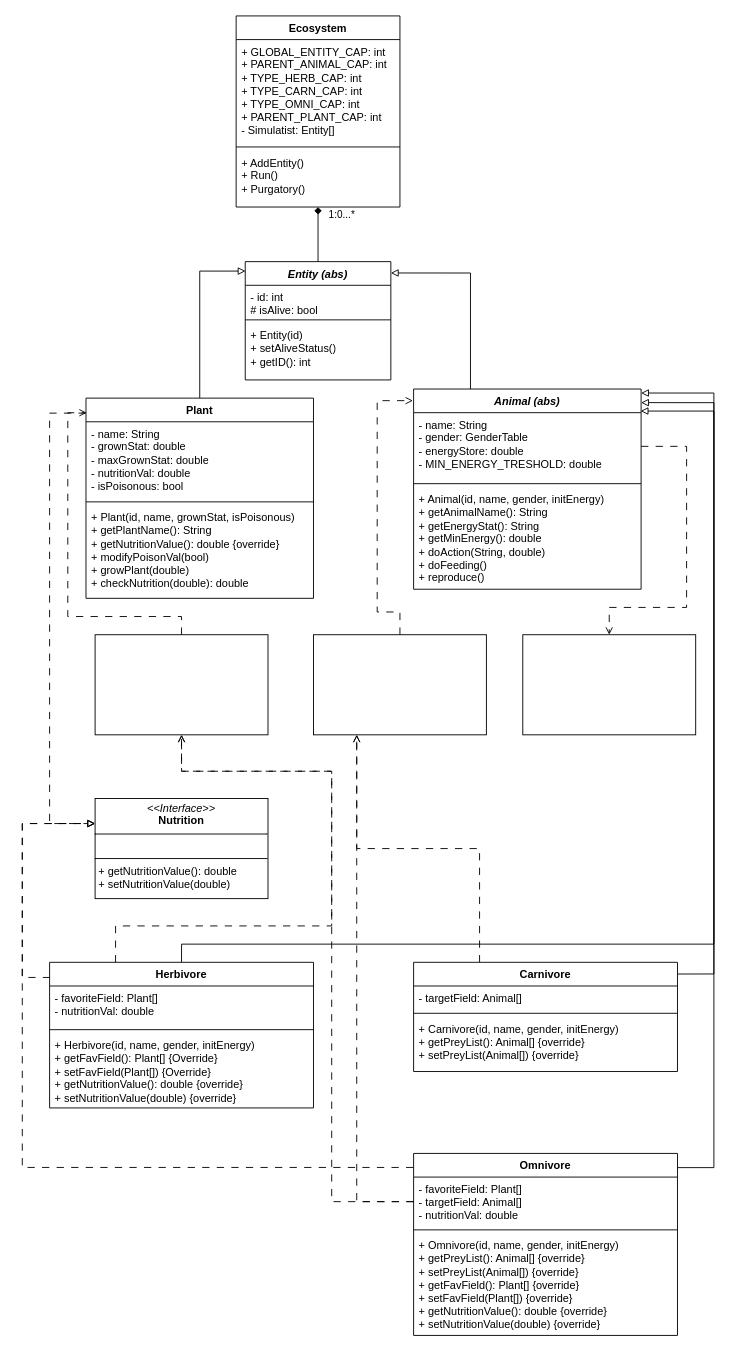
Image size: 737x1354. Some labels were removed from this diagram. Here are the shapes that lost their labels. From the top down, the centre of each, then its label:
(x=181, y=684): <<Interface>> PlantFeeding + getFavField(): Plant[] + setFavField(Plant[])
(x=399, y=684): <<Interface>> AnimalFeeding + getPreyList(): Animal[] + setPreyList(Animal[])
(x=609, y=684): <<Enumeration>> GenderTable MALE FEMALE + getLabel(): String
